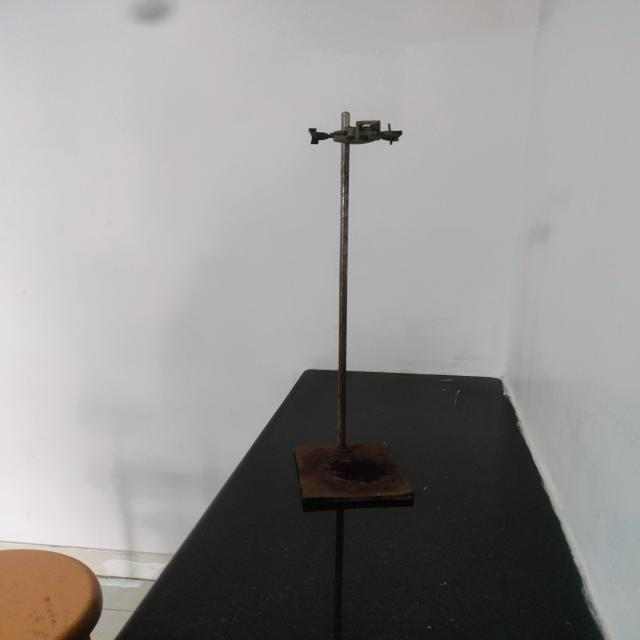Burette_Stands: (269, 89, 436, 518)
